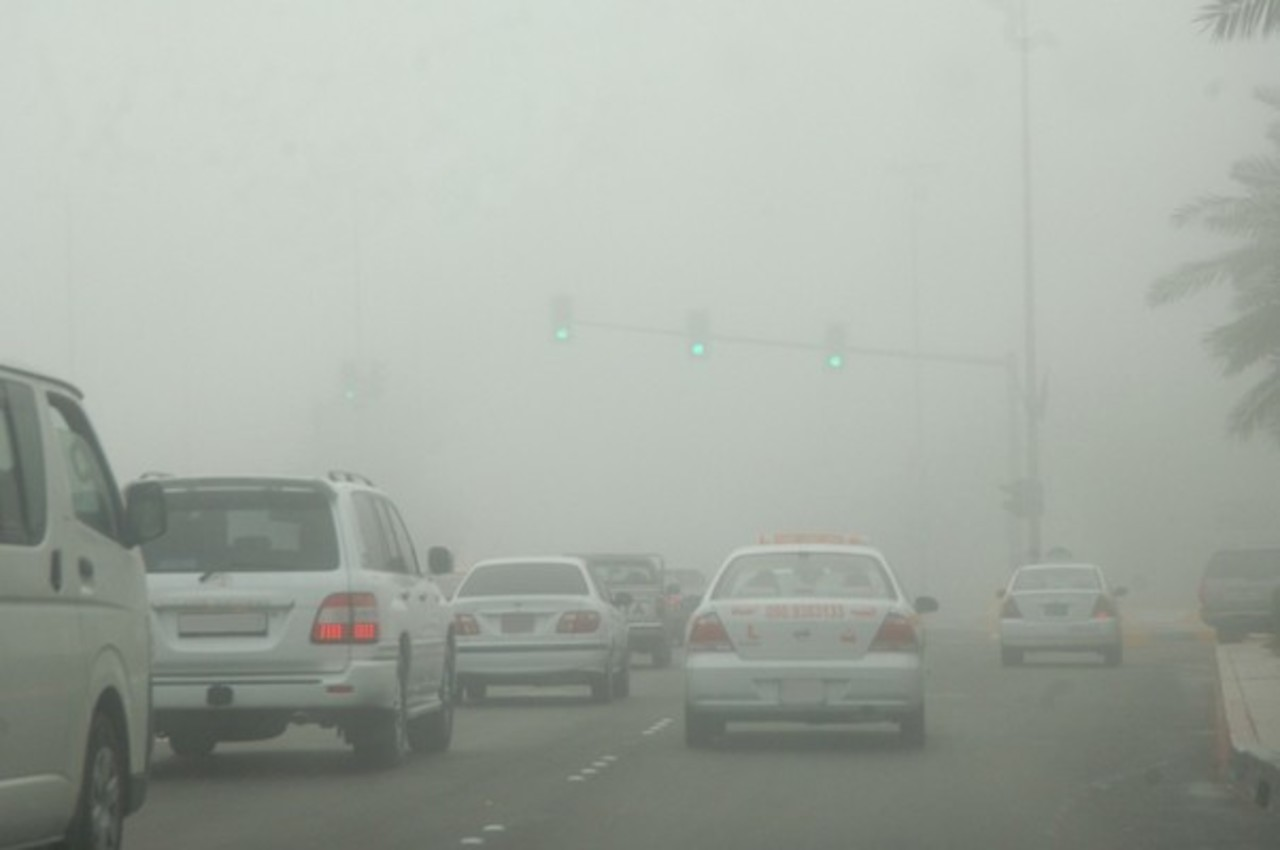car: (138, 469, 450, 769), (3, 352, 145, 844), (675, 539, 928, 750), (442, 554, 635, 705), (994, 558, 1127, 666), (582, 548, 667, 665), (1196, 544, 1279, 643), (665, 554, 709, 637)
